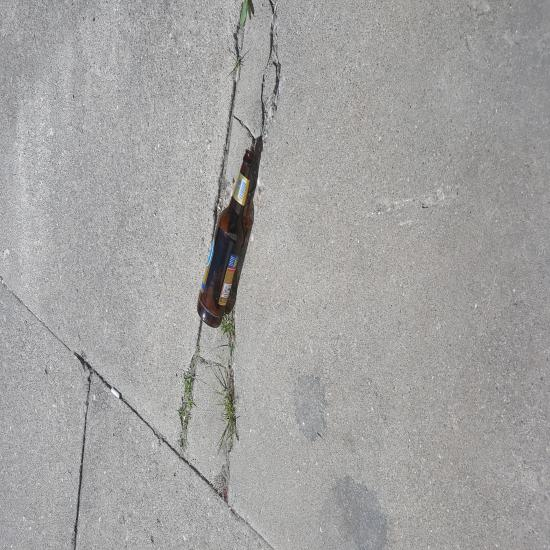Normal paper: (117, 215, 382, 475)
